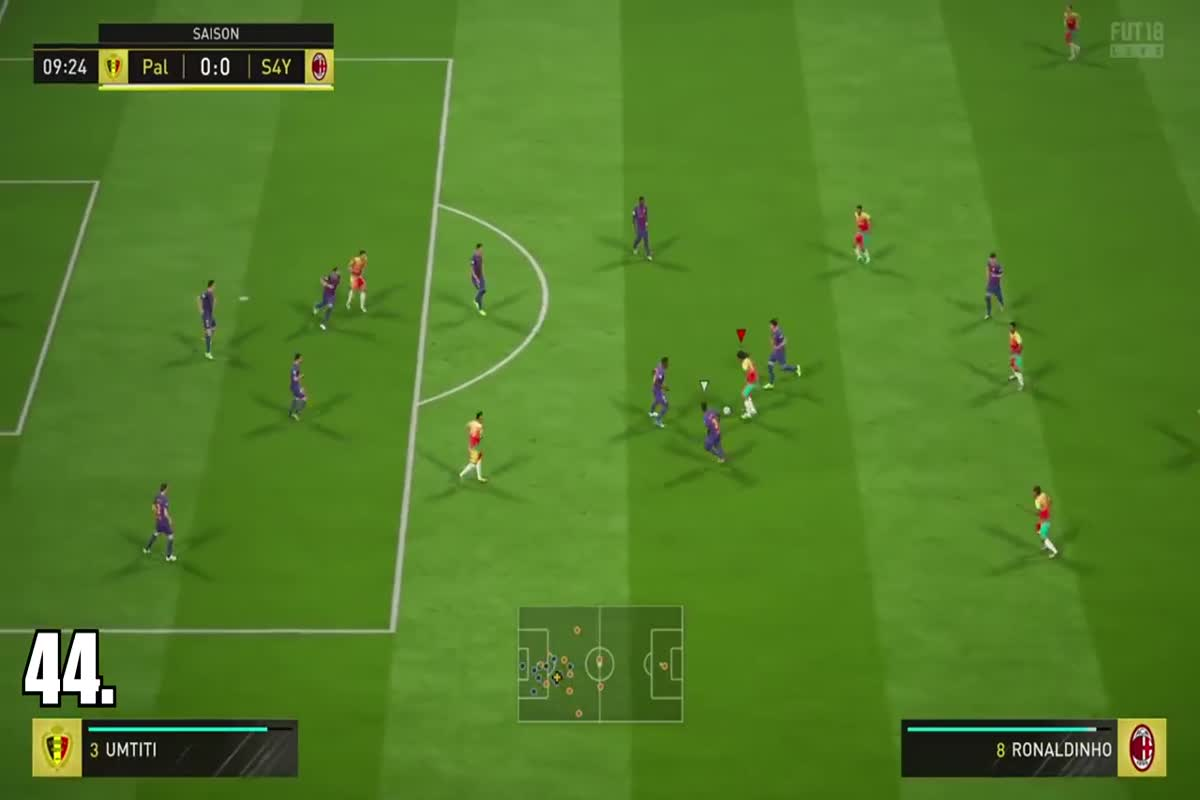ball: (718, 398, 737, 416)
